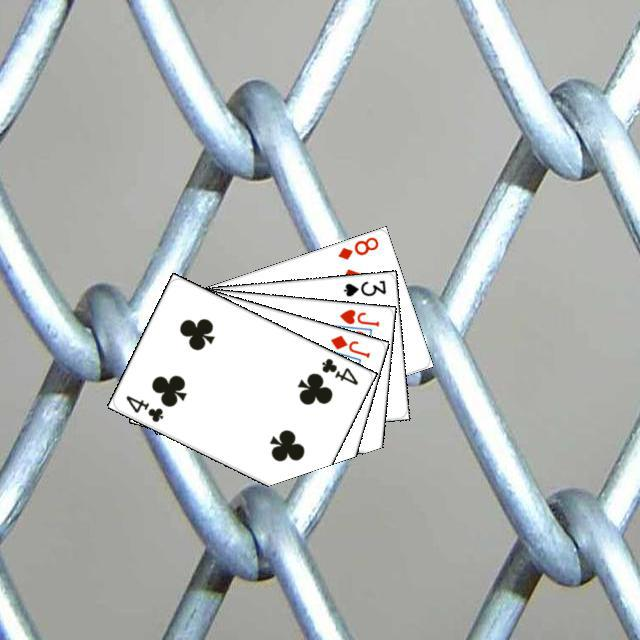3s: (338, 275, 387, 298)
4c: (316, 353, 360, 387), (121, 390, 165, 424)
8d: (333, 232, 380, 261)
Jd: (325, 330, 372, 360)
Jh: (334, 304, 381, 328)
